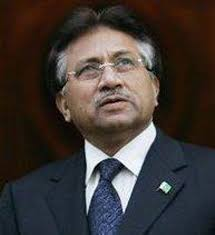middle_eastern_male: (58, 22, 160, 145)
